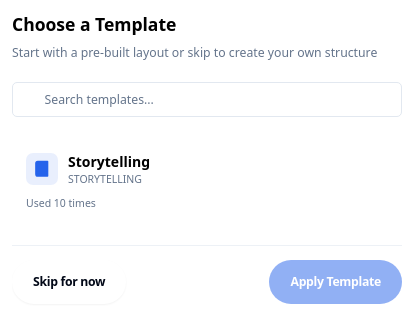
Test case: TemplateSelector › should select template on click
The width and height of the screenshot is (414, 321).
Note: Click template
Click the heading "Storytelling".
click(109, 162)  # box left=68, top=152, right=150, bottom=172
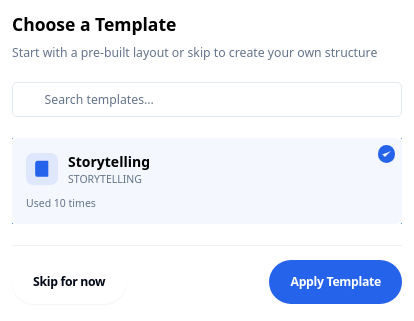
Now the button "Apply Template" is enabled, box left=270, top=260, right=402, bottom=304
